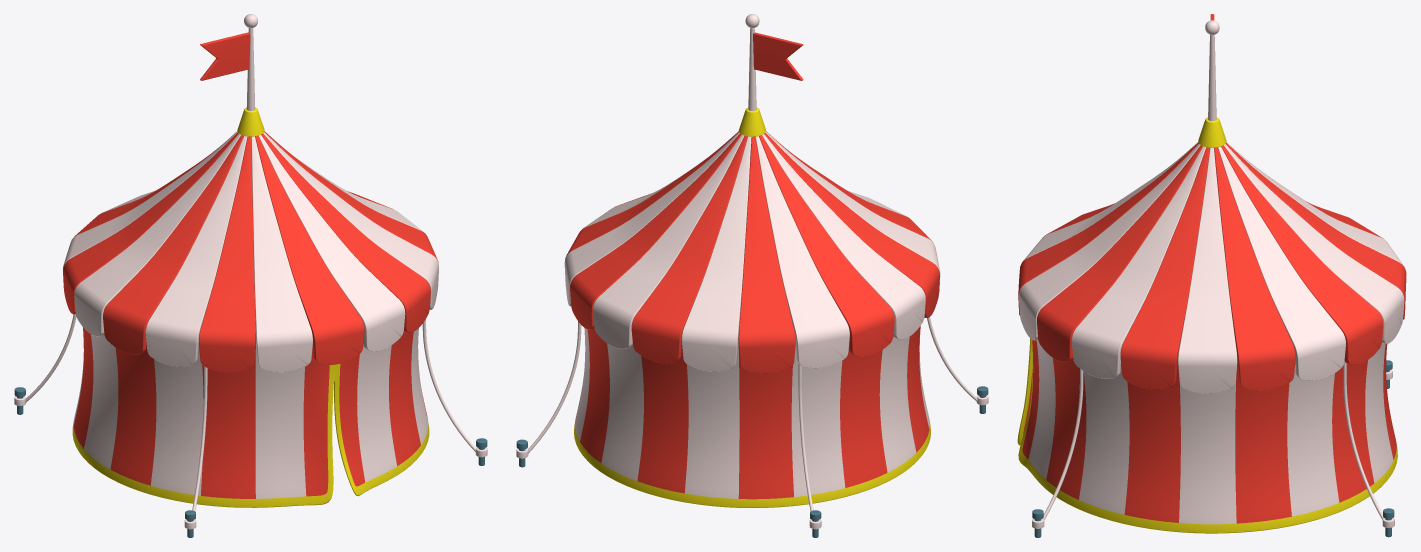
File: Public_14_Circus_Tent_1.glb
The picture shows the model from 3 angles, left to right: view 1: azimuth 30°, elevation 25°; view 2: azimuth 150°, elevation 25°; view 3: azimuth 270°, elevation 25°; orthographic projection. The views are drawn at different scales.
Visible parts, largest first — view 1: Public_14_Circus_Tent_1; view 2: Public_14_Circus_Tent_1; view 3: Public_14_Circus_Tent_1.
Part boxes in pixels (x1,y1,x2,y2): Public_14_Circus_Tent_1: [14, 14, 487, 537]; Public_14_Circus_Tent_1: [516, 14, 988, 537]; Public_14_Circus_Tent_1: [1017, 14, 1406, 537].
Size of the model in its own units: 10.73 by 13.46 by 10.75.
1 material, 1 textured.
